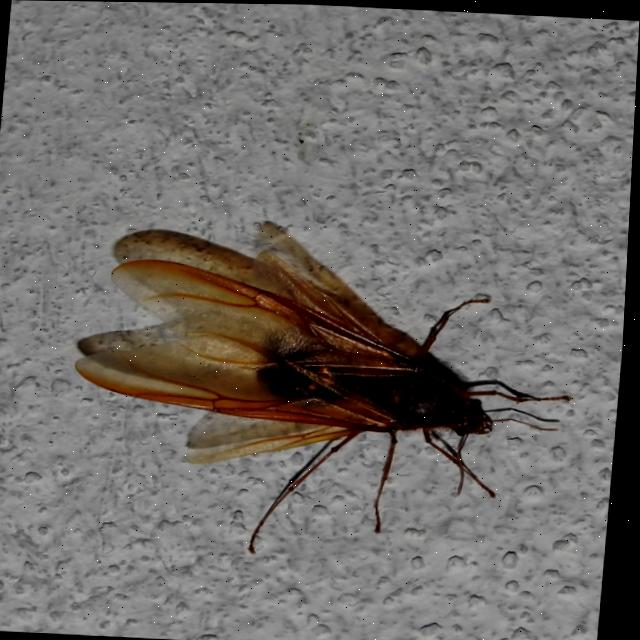Alive-Male-Alate: (63, 241, 586, 567)
